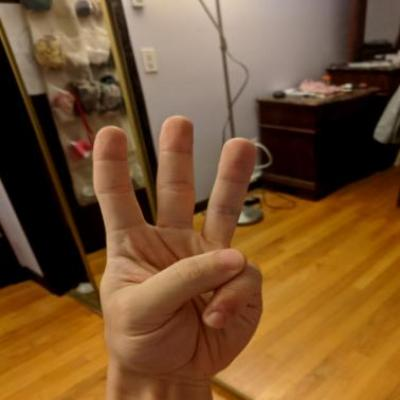hand: (87, 109, 270, 385)
